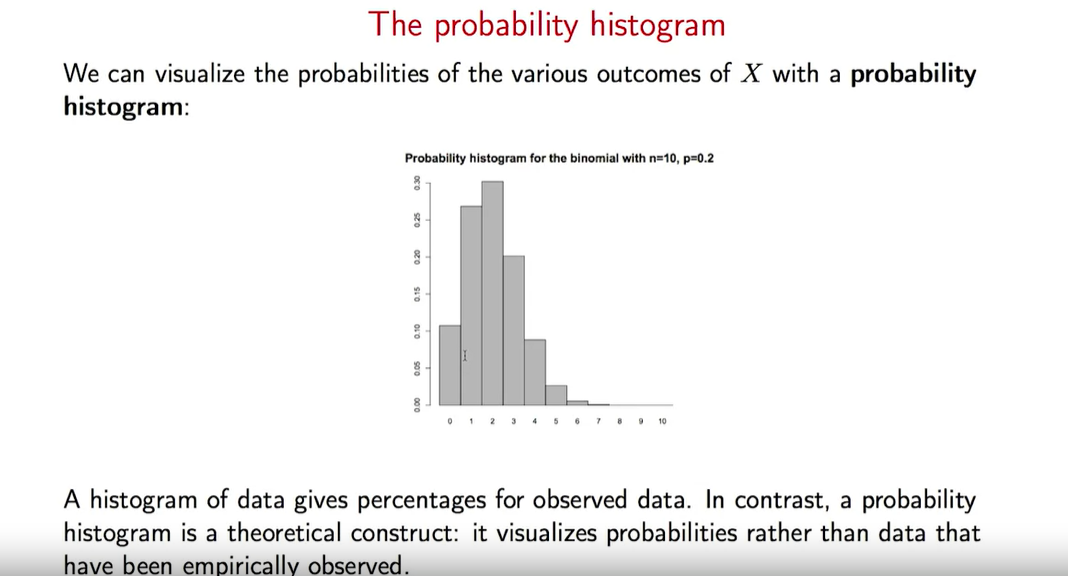figure: (397, 149, 723, 426)
text: (61, 488, 981, 576), (58, 61, 980, 119), (361, 8, 729, 42)
